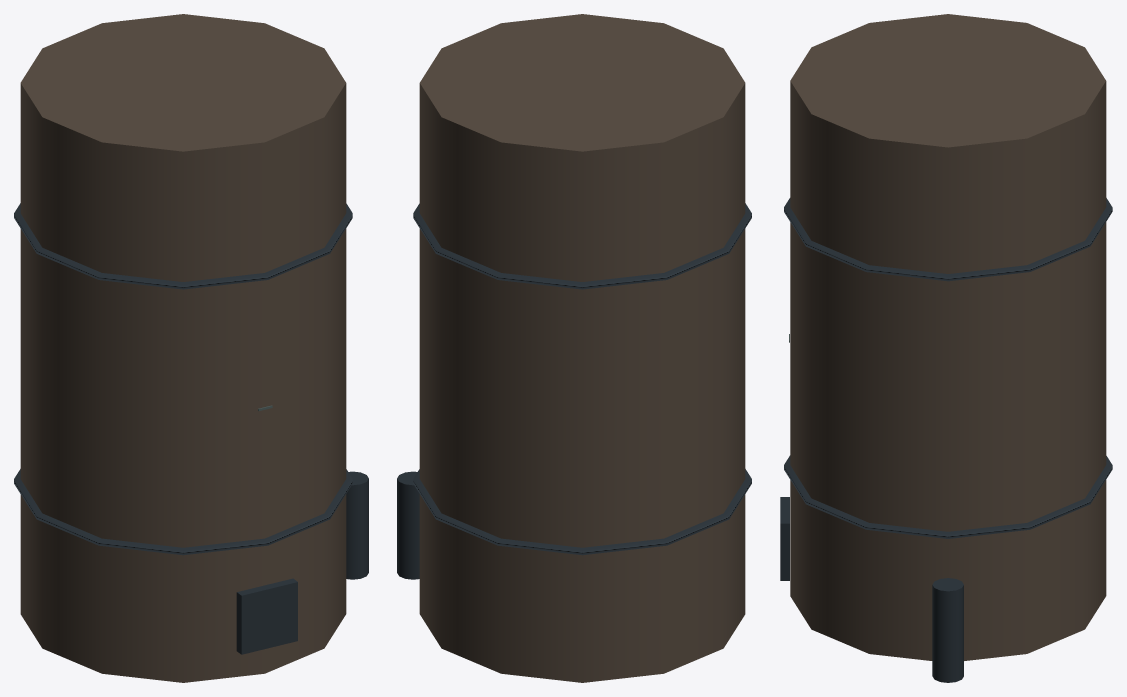
Rendered from boiler-3.glb.
3 views of the same model, side by side, from view 1: azimuth 30°, elevation 25°; view 2: azimuth 150°, elevation 25°; view 3: azimuth 270°, elevation 25° (orthographic). The views are drawn at different scales.
Parts seen in each view (by area): view 1: boiler/2/KR-230-3; view 2: boiler/2/KR-230-3; view 3: boiler/2/KR-230-3.
Boxes of the visible parts, box(x1,y1,x2,y2) form: boiler/2/KR-230-3: box(14, 14, 368, 682); boiler/2/KR-230-3: box(397, 14, 751, 682); boiler/2/KR-230-3: box(780, 14, 1112, 682).
Size of the model in its own units: 5.85 by 9 by 5.25.
